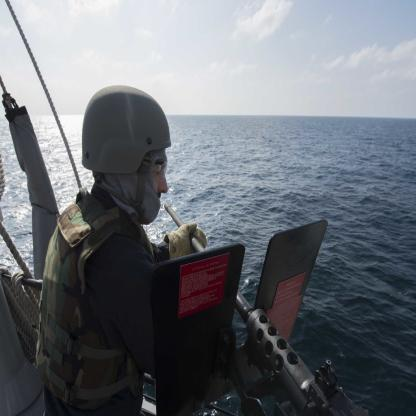Helmet: (74, 88, 172, 217)
